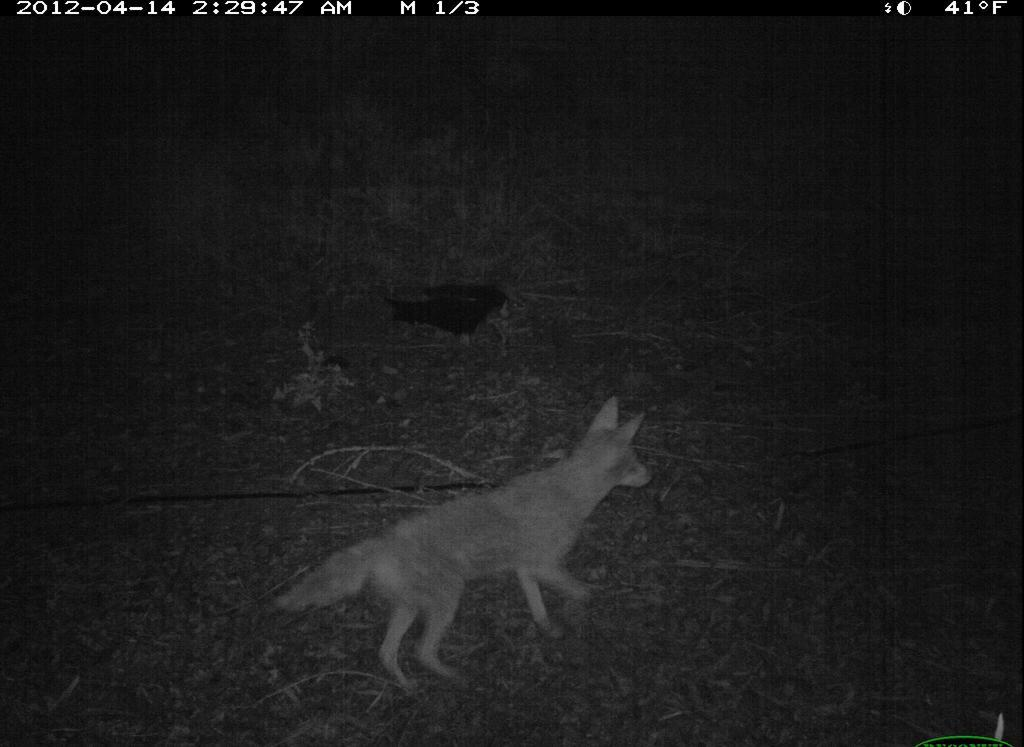coyote: (287, 396, 655, 693)
